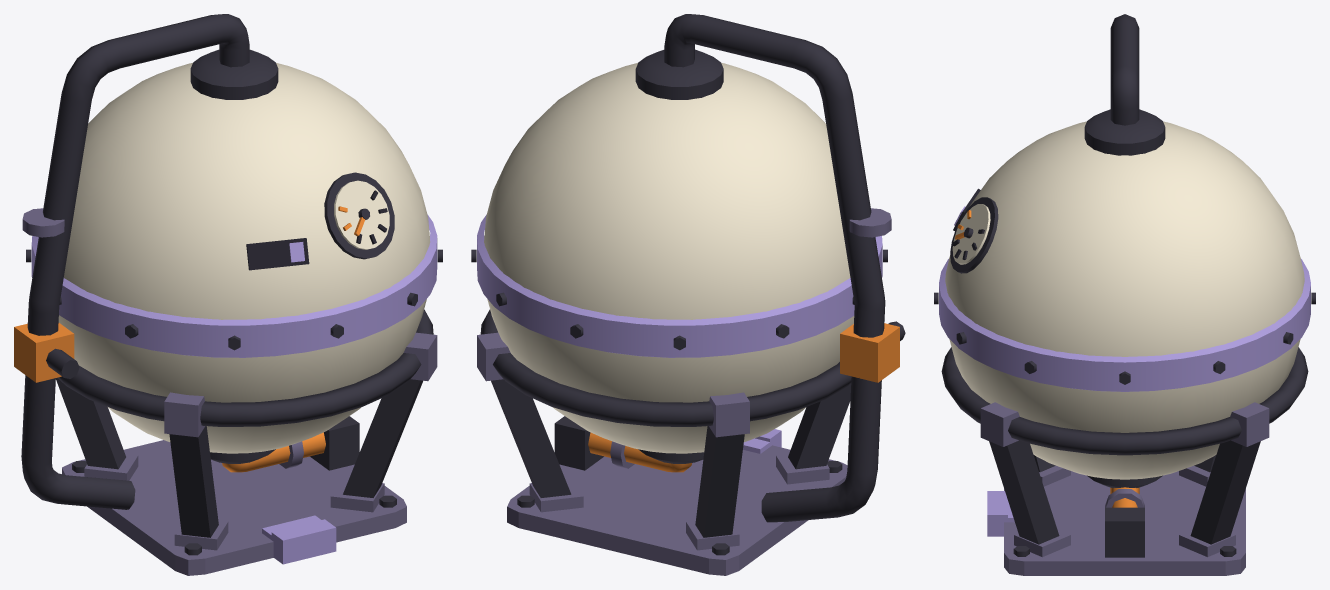
File: propellant_tank.glb
3 views of the same model, side by side, from view 1: azimuth 30°, elevation 25°; view 2: azimuth 150°, elevation 25°; view 3: azimuth 270°, elevation 25° (orthographic). The views are drawn at different scales.
Visible parts, largest first — view 1: tank_CreamHull, tank_Graphite, tank_PurpleGrey, tank_Lavender, tank_Orange, tank_DecalDark; view 2: tank_CreamHull, tank_Graphite, tank_PurpleGrey, tank_Lavender, tank_Orange; view 3: tank_CreamHull, tank_Graphite, tank_PurpleGrey, tank_Lavender.
Part boxes in pixels (<box>): tank_CreamHull: <box>58,63,430,453</box>; tank_Graphite: <box>21,14,442,555</box>; tank_PurpleGrey: <box>22,208,437,575</box>; tank_Lavender: <box>31,214,437,564</box>; tank_Orange: <box>14,206,365,472</box>; tank_DecalDark: <box>246,190,387,270</box>; tank_CreamHull: <box>484,63,854,453</box>; tank_Graphite: <box>471,14,905,555</box>; tank_PurpleGrey: <box>477,208,891,575</box>; tank_Lavender: <box>477,214,882,453</box>; tank_Orange: <box>588,323,899,472</box>; tank_CreamHull: <box>945,121,1304,479</box>; tank_Graphite: <box>934,14,1315,557</box>; tank_PurpleGrey: <box>980,402,1269,575</box>; tank_Lavender: <box>939,206,1310,536</box>.
Bounding box in the file's own units: 0.512 × 0.618 × 0.474.
